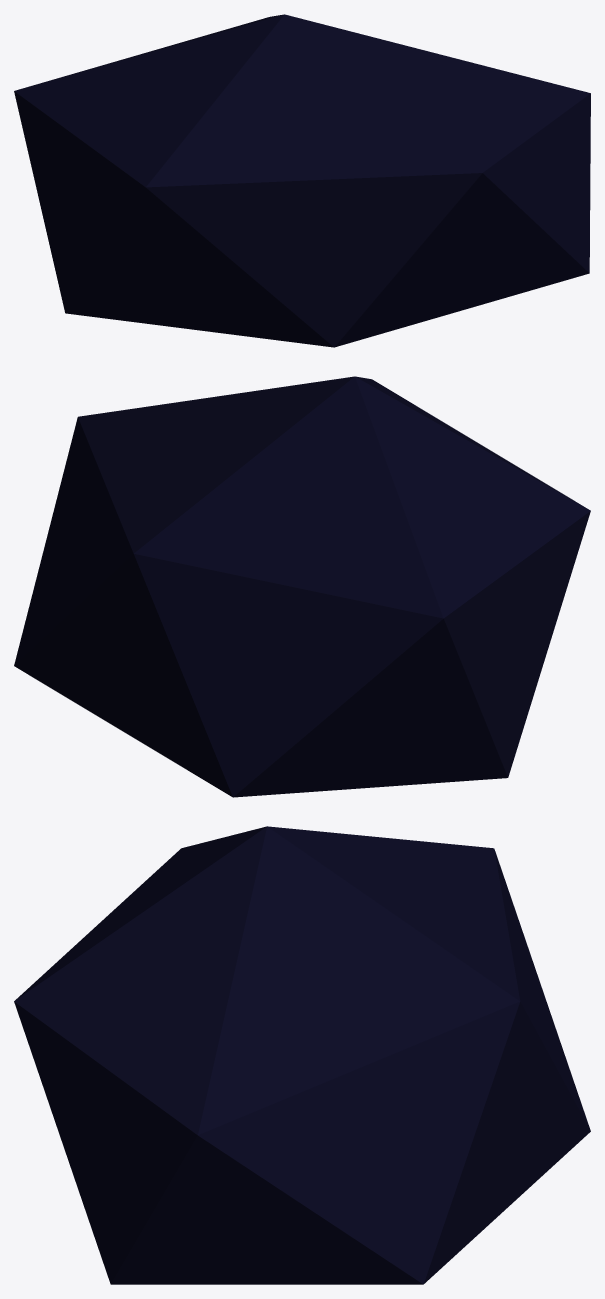
Rendered from rock02.fbx.
The picture shows the model from 3 angles, top to bottom: view 1: azimuth 30°, elevation 25°; view 2: azimuth 150°, elevation 25°; view 3: azimuth 270°, elevation 25°; orthographic projection. The views are drawn at different scales.
Parts seen in each view (by area): view 1: rock04; view 2: rock04; view 3: rock04.
Part boxes in pixels (x1,y1,x2,y2): rock04: (14, 14, 590, 347); rock04: (14, 376, 590, 797); rock04: (14, 826, 590, 1284).
Size of the model in its own units: 60.66 by 36.36 by 56.06.
